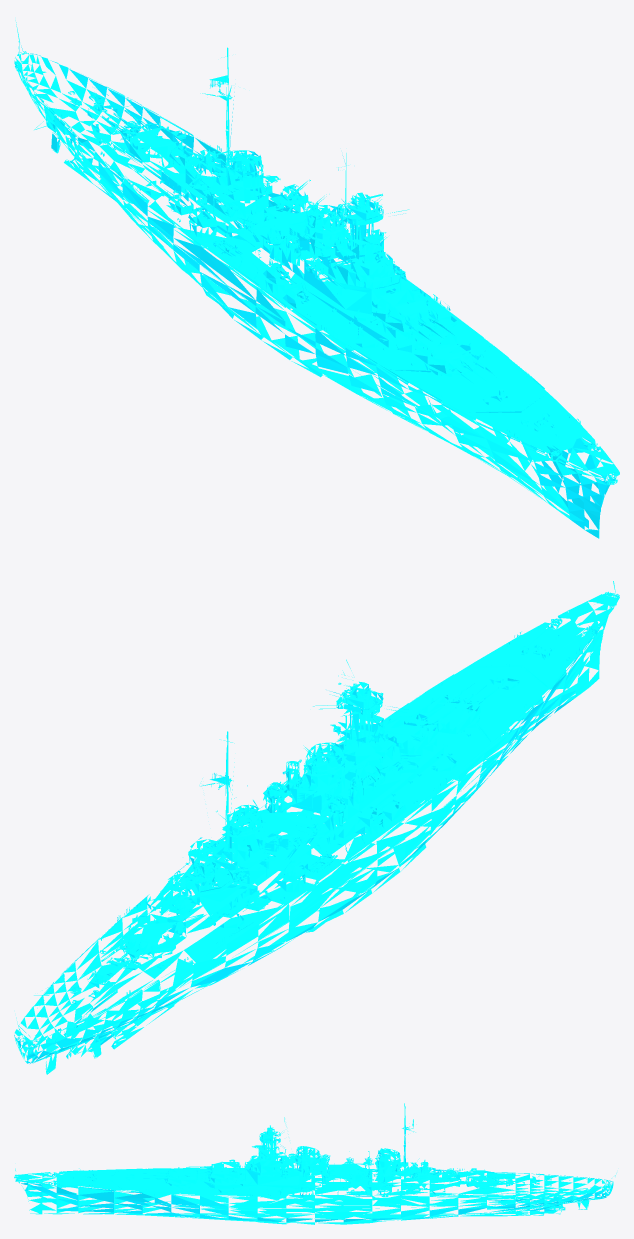
File: PGSC519.glb
3 renders of one model, top to bottom at view 1: azimuth 30°, elevation 25°; view 2: azimuth 150°, elevation 25°; view 3: azimuth 270°, elevation 25°, orthographic. The views are drawn at different scales.
Parts seen in each view (by area): view 1: hull, turret; view 2: hull, turret; view 3: hull, turret.
Boxes of the visible parts, x1,y1,x2,y2 form: hull: [14, 20, 619, 538]; turret: [93, 93, 498, 383]; hull: [14, 581, 619, 1074]; turret: [92, 682, 498, 983]; hull: [14, 1103, 616, 1224]; turret: [143, 1149, 541, 1195].
Size of the model in its own units: 2.04 by 3.48 by 17.29.
